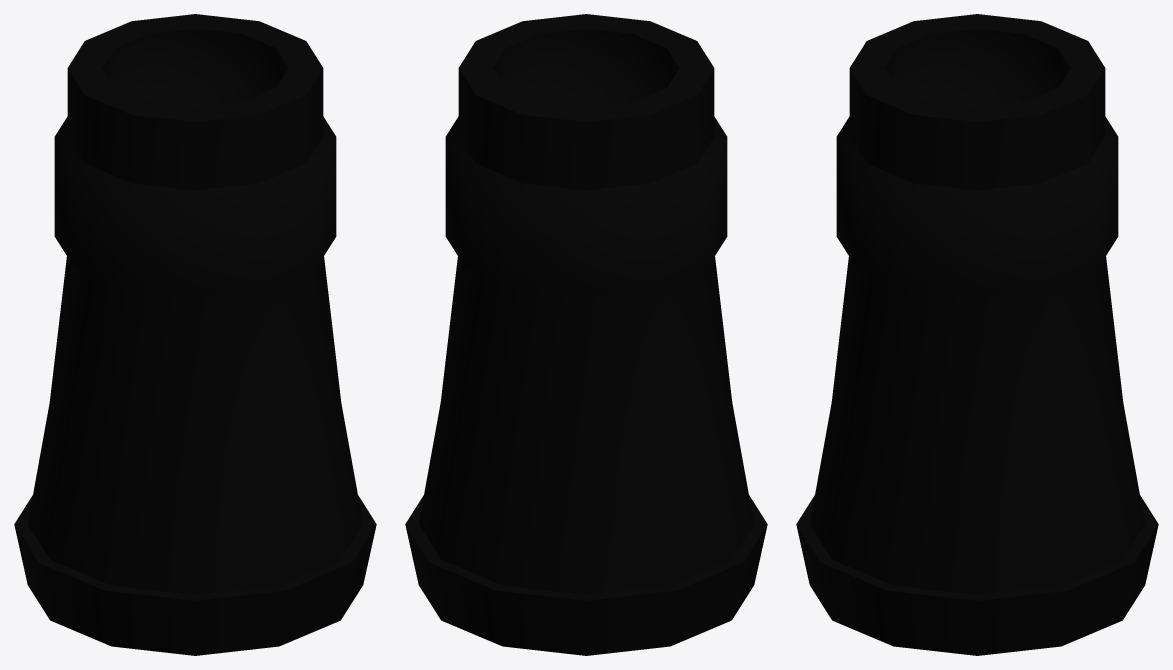
Rendered from chimney-large.glb.
The picture shows the model from 3 angles, left to right: view 1: azimuth 30°, elevation 25°; view 2: azimuth 150°, elevation 25°; view 3: azimuth 270°, elevation 25°; orthographic projection.
Visible parts, largest first — view 1: chimney-large; view 2: chimney-large; view 3: chimney-large.
Boxes of the visible parts, <box> form: chimney-large: <box>14,14,376,655</box>; chimney-large: <box>405,14,767,655</box>; chimney-large: <box>796,14,1158,655</box>.
Bounding box in the file's own units: 1.08 × 1.7 × 1.08.
Materials: 1 (1 with a texture image).
